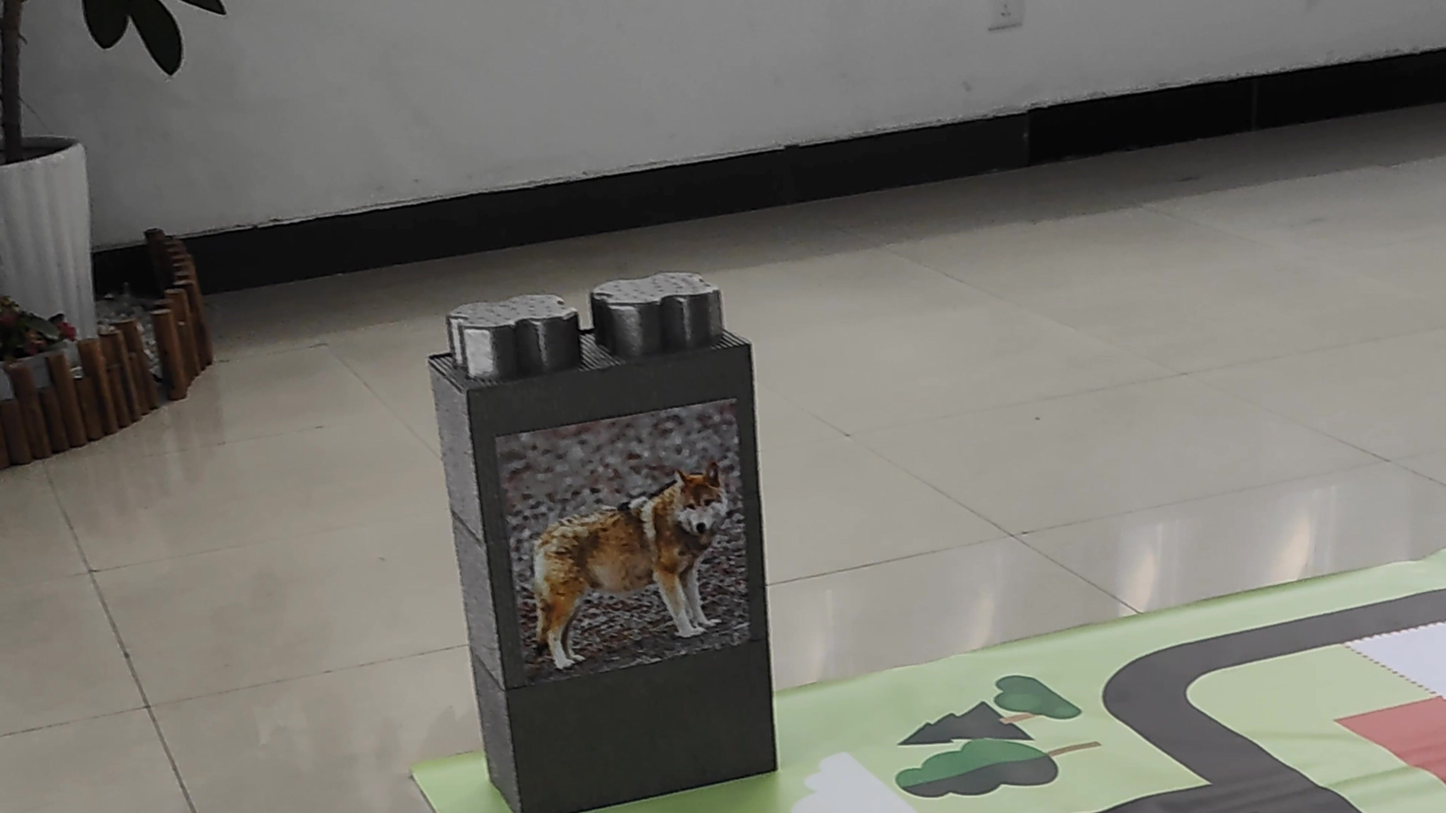wolf: (486, 422, 752, 631)
